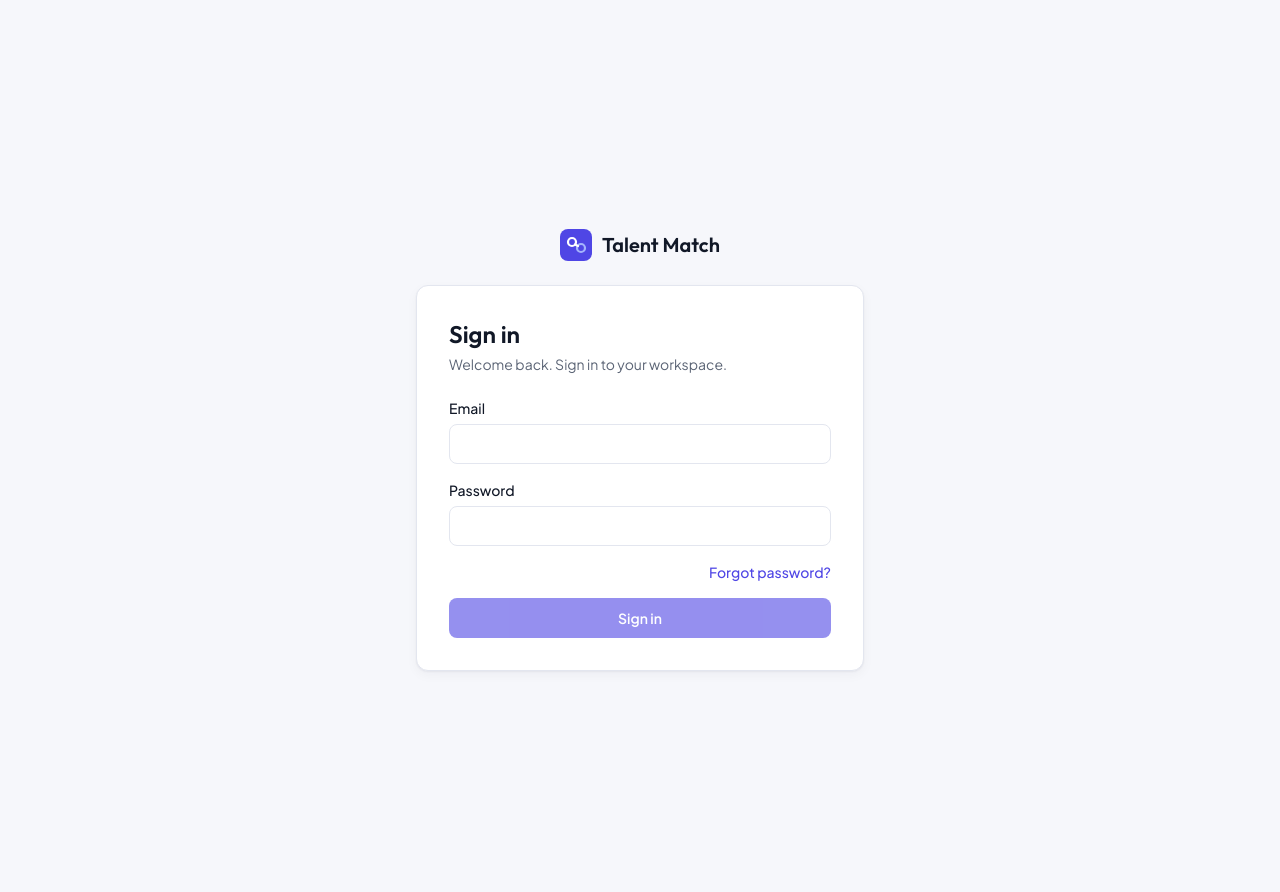
Test: sign in › signs in, stores the session and returns to the page that was requested
Type "sarah@anthropic.com" into the field labelled "Email" at (640, 444), box [449,424,831,464]
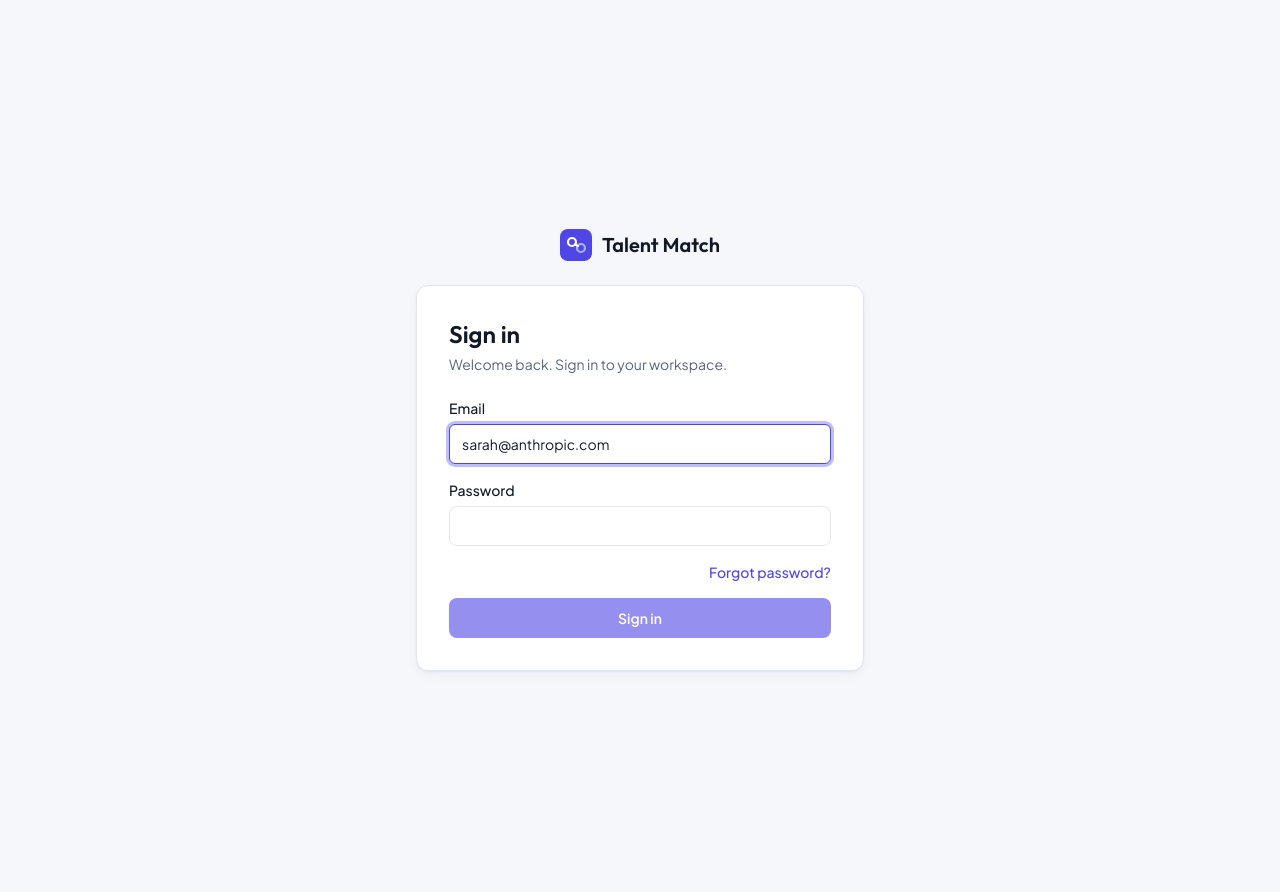
Type "anthropic123" into the password field labelled "Password" at (640, 526), box [449,506,831,546]
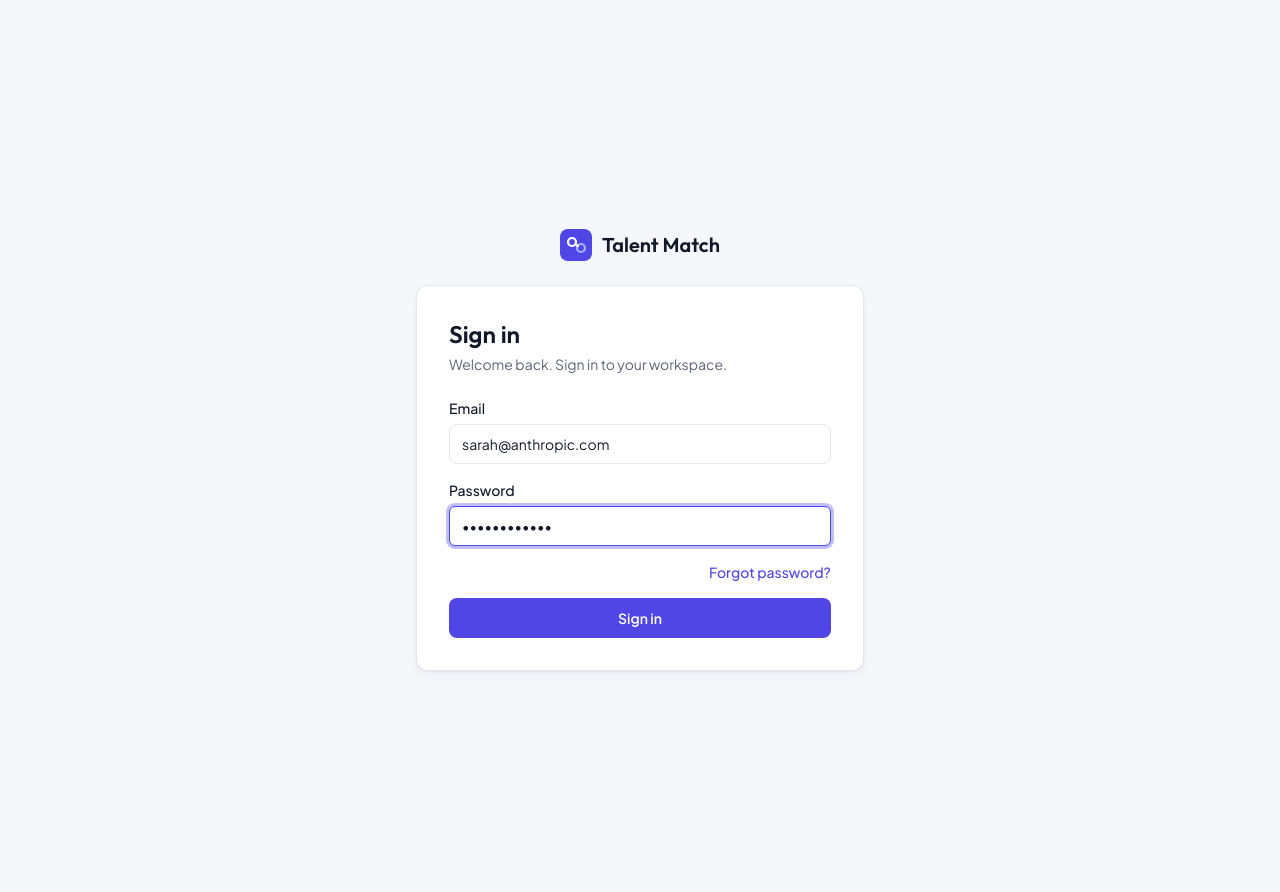
Click the button "Sign in" at (640, 618), box [449,598,831,638]
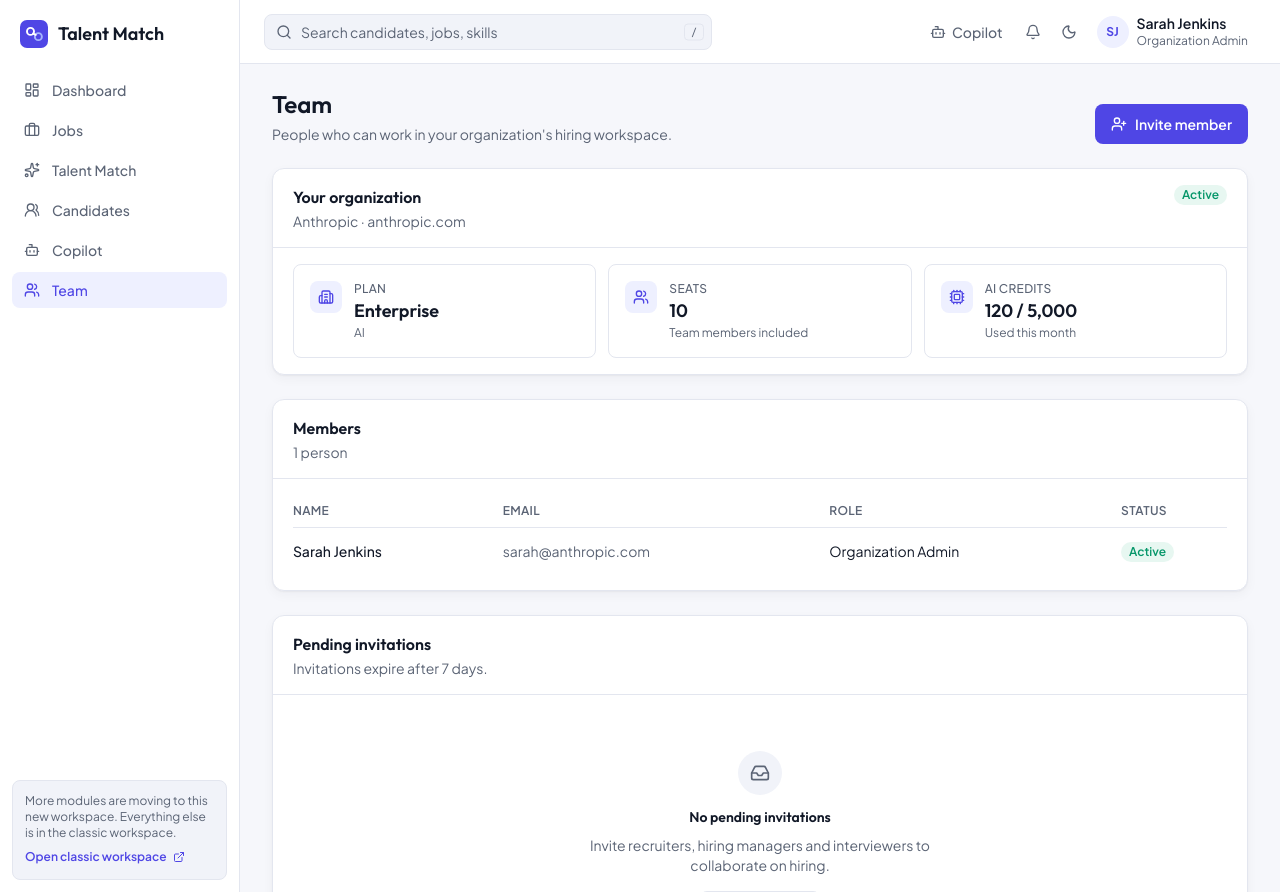
Check: the heading "Team" is shown, box [272,89,332,119]
